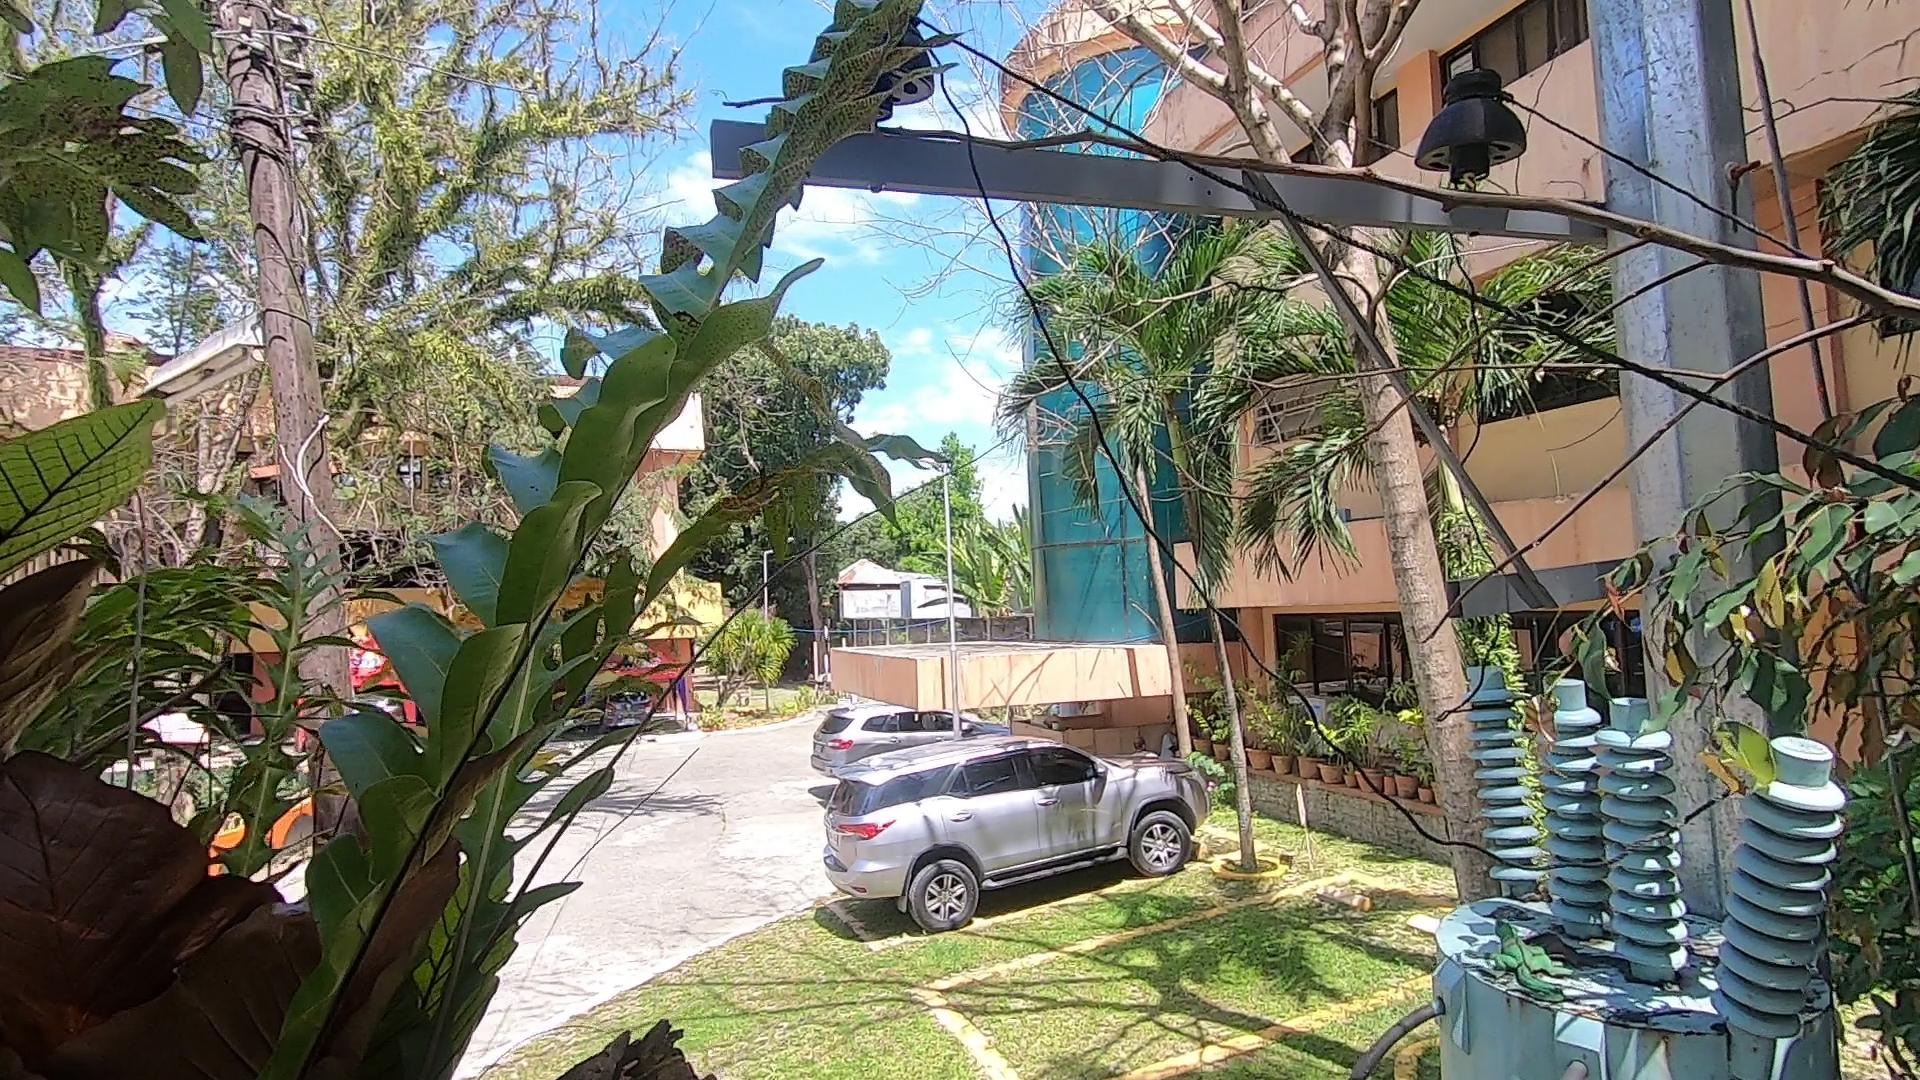leaf: (1524, 920, 1607, 969)
tree branch: (716, 11, 1920, 622)
